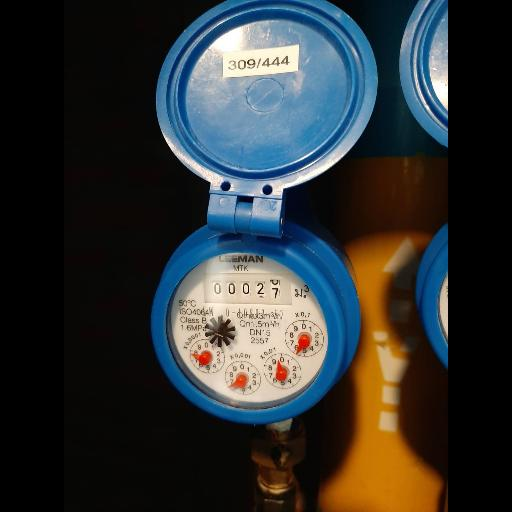0: (240, 280, 252, 299), (227, 280, 238, 299), (212, 281, 222, 297)
2: (255, 281, 267, 300)
7: (269, 279, 282, 301)
border_water_meter_number: (202, 273, 292, 305)
